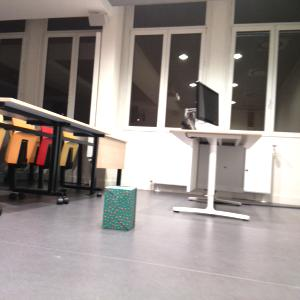small: (99, 185, 141, 235)
